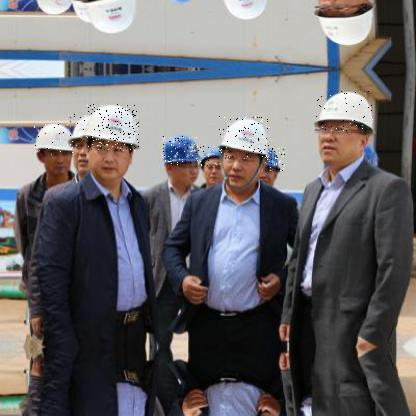safetyhelmet: (313, 92, 375, 134), (86, 104, 140, 152), (219, 116, 271, 160), (34, 122, 74, 156), (162, 136, 200, 166), (67, 112, 93, 150), (259, 146, 286, 172), (200, 146, 223, 168)
